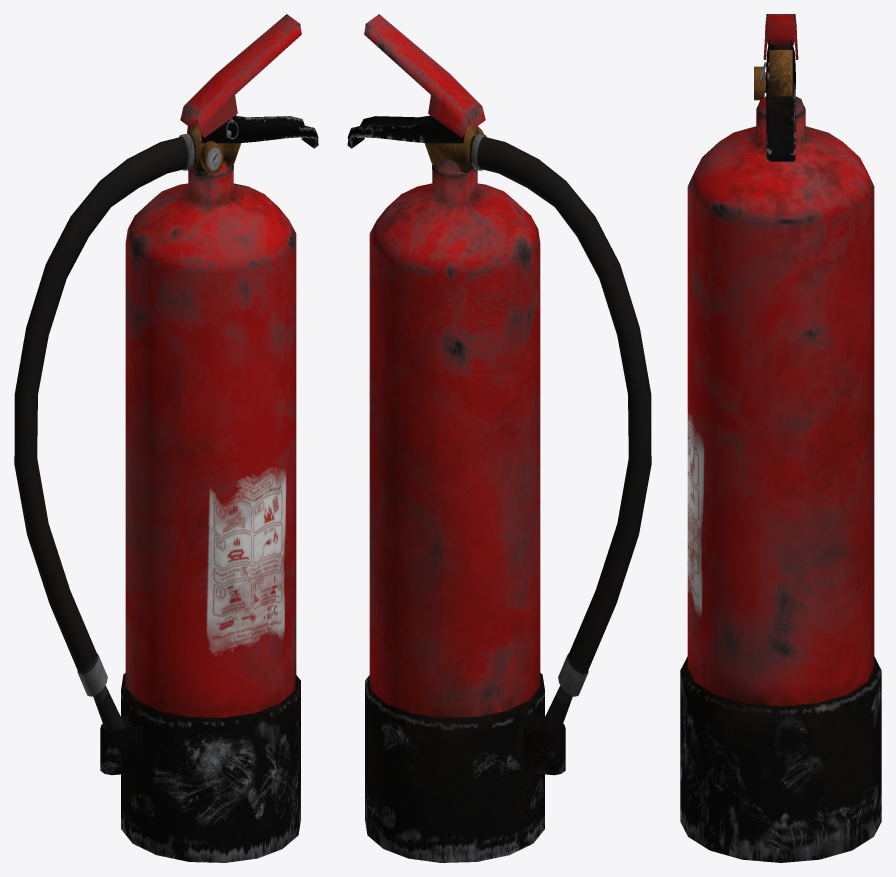
Rendered from extinguidor.obj.
3 views of the same model, side by side, from view 1: azimuth 30°, elevation 25°; view 2: azimuth 150°, elevation 25°; view 3: azimuth 270°, elevation 25° (orthographic). The views are drawn at different scales.
Parts seen in each view (by area): view 1: fire_extinguisher:polySurface12_Mesh.002; view 2: fire_extinguisher:polySurface12_Mesh.002; view 3: fire_extinguisher:polySurface12_Mesh.002.
Boxes of the visible parts, x1=… form: fire_extinguisher:polySurface12_Mesh.002: x1=14, y1=14, x2=318, y2=862; fire_extinguisher:polySurface12_Mesh.002: x1=347, y1=14, x2=651, y2=862; fire_extinguisher:polySurface12_Mesh.002: x1=680, y1=14, x2=881, y2=862.
Bounding box in the file's own units: 0.4157 × 1.05 × 0.2255.
1 material, 1 textured.
